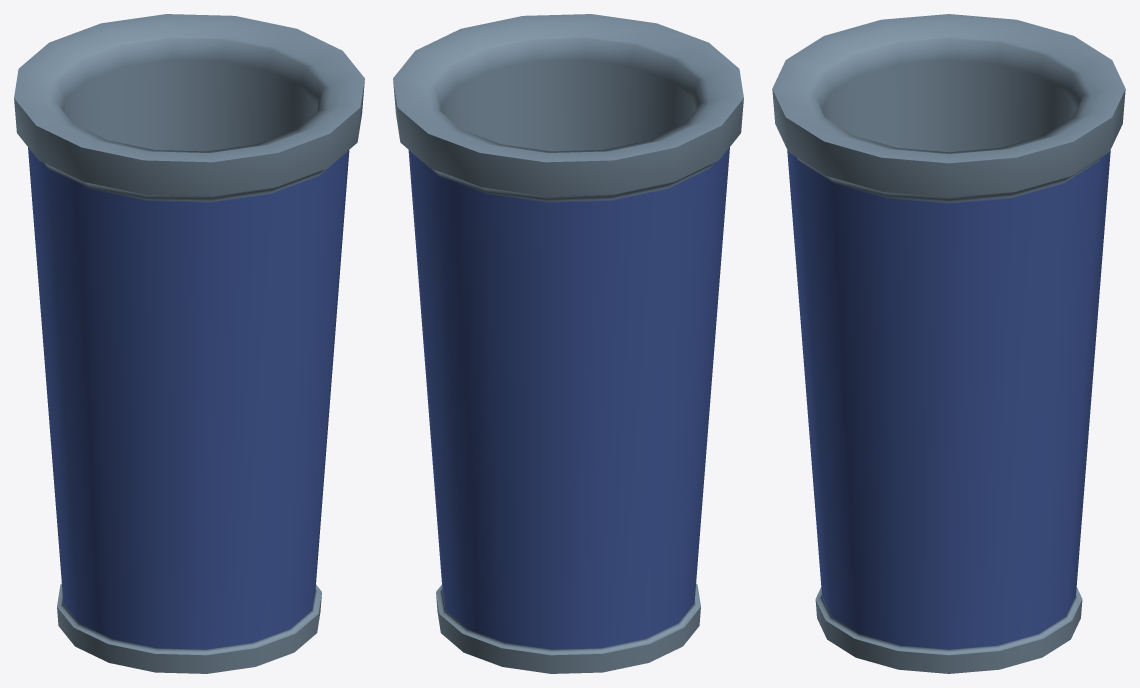
Rendered from Tumbler_Broken_low (1).fbx.
3 renders of one model, left to right at view 1: azimuth 30°, elevation 25°; view 2: azimuth 150°, elevation 25°; view 3: azimuth 270°, elevation 25°, orthographic.
Visible parts, largest first — view 1: Tumbler_Broken_big_low; view 2: Tumbler_Broken_big_low; view 3: Tumbler_Broken_big_low.
Part boxes in pixels (x1,y1,x2,y2): Tumbler_Broken_big_low: [14, 14, 364, 673]; Tumbler_Broken_big_low: [393, 14, 743, 673]; Tumbler_Broken_big_low: [772, 14, 1125, 673].
Size of the model in its own units: 181 by 300 by 181.
1 material, 1 textured.
